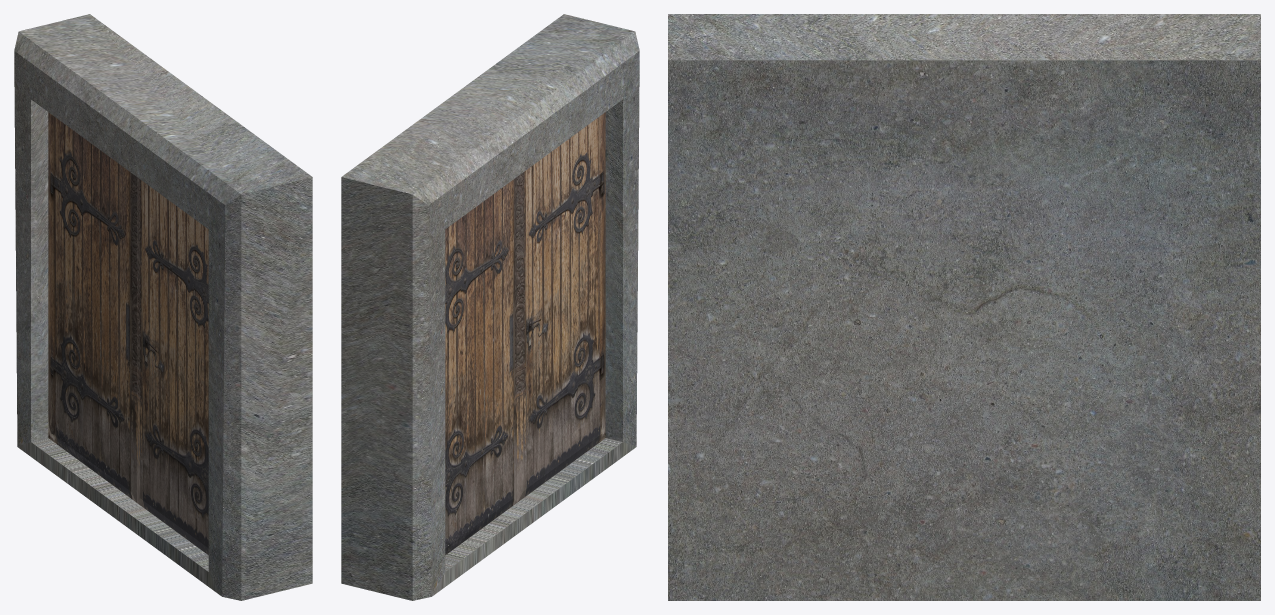
The model's file is Door large.FBX.
The picture shows the model from 3 angles, left to right: view 1: azimuth 30°, elevation 25°; view 2: azimuth 150°, elevation 25°; view 3: azimuth 270°, elevation 25°; orthographic projection. The views are drawn at different scales.
Visible parts, largest first — view 1: Box001; view 2: Box001; view 3: Box001.
Part boxes in pixels (x1,y1,x2,y2): Box001: (14, 14, 312, 600); Box001: (341, 14, 639, 600); Box001: (668, 14, 1260, 600).
Bounding box in the file's own units: 15.15 × 72.12 × 71.67.
